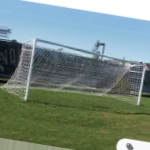goals: (1, 36, 148, 110)
